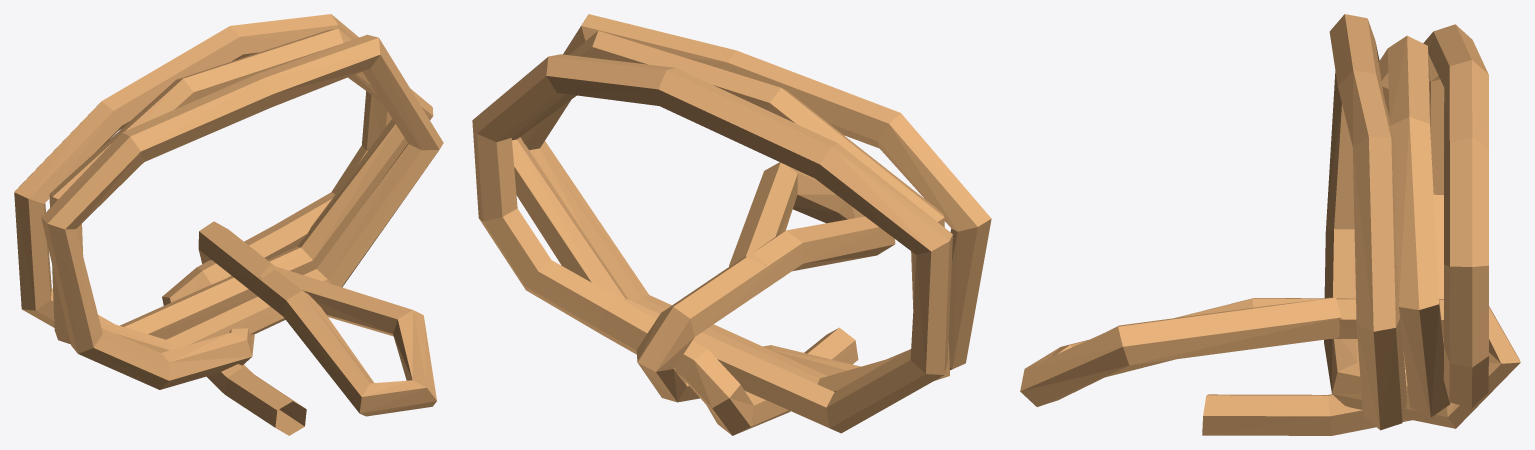
The model's file is Rope.fbx.
The picture shows the model from 3 angles, left to right: view 1: azimuth 30°, elevation 25°; view 2: azimuth 150°, elevation 25°; view 3: azimuth 270°, elevation 25°; orthographic projection. The views are drawn at different scales.
Parts seen in each view (by area): view 1: Rope; view 2: Rope; view 3: Rope.
Part boxes in pixels (x1,y1,x2,y2): Rope: (14, 14, 443, 435); Rope: (472, 14, 991, 435); Rope: (1020, 14, 1520, 435).
Bounding box in the file's own units: 167 × 125 × 140.
